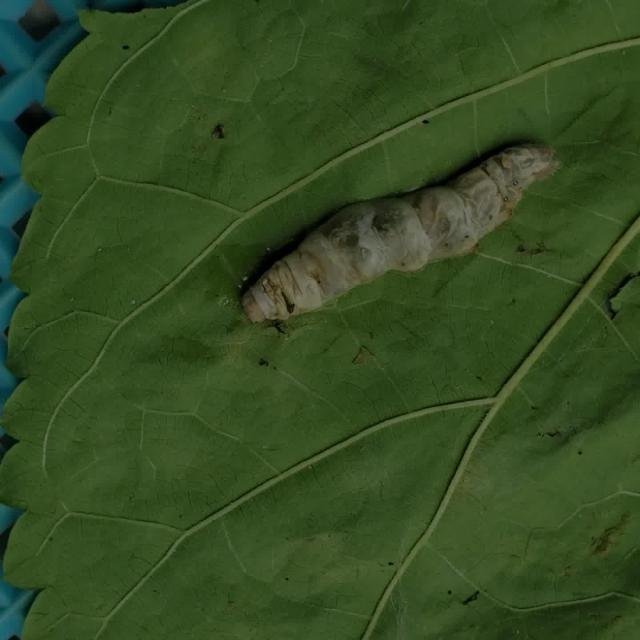Grasserie: (209, 102, 598, 366)
